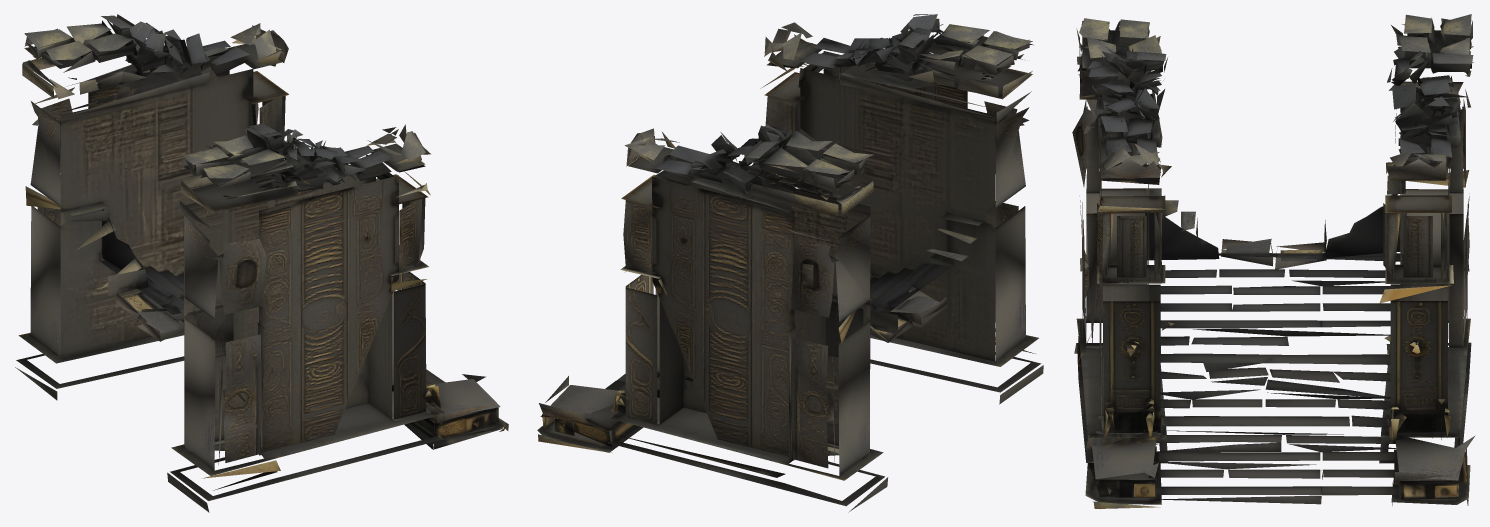
Rendered from ch8_grand_collapsed_stairway_LOD3.glb.
3 views of the same model, side by side, from view 1: azimuth 30°, elevation 25°; view 2: azimuth 150°, elevation 25°; view 3: azimuth 270°, elevation 25° (orthographic). The views are drawn at different scales.
Parts seen in each view (by area): view 1: tripo_node_536b5fd1-2f6e-41d4-aba5-11aede7290c5; view 2: tripo_node_536b5fd1-2f6e-41d4-aba5-11aede7290c5; view 3: tripo_node_536b5fd1-2f6e-41d4-aba5-11aede7290c5.
Part boxes in pixels (left/top/right/bottom): tripo_node_536b5fd1-2f6e-41d4-aba5-11aede7290c5: left=15, top=14, right=508, bottom=512; tripo_node_536b5fd1-2f6e-41d4-aba5-11aede7290c5: left=537, top=14, right=1043, bottom=512; tripo_node_536b5fd1-2f6e-41d4-aba5-11aede7290c5: left=1072, top=14, right=1475, bottom=509.
Size of the model in its own units: 0.9344 by 0.9774 by 1.01.
Materials: 1 (1 with a texture image).
